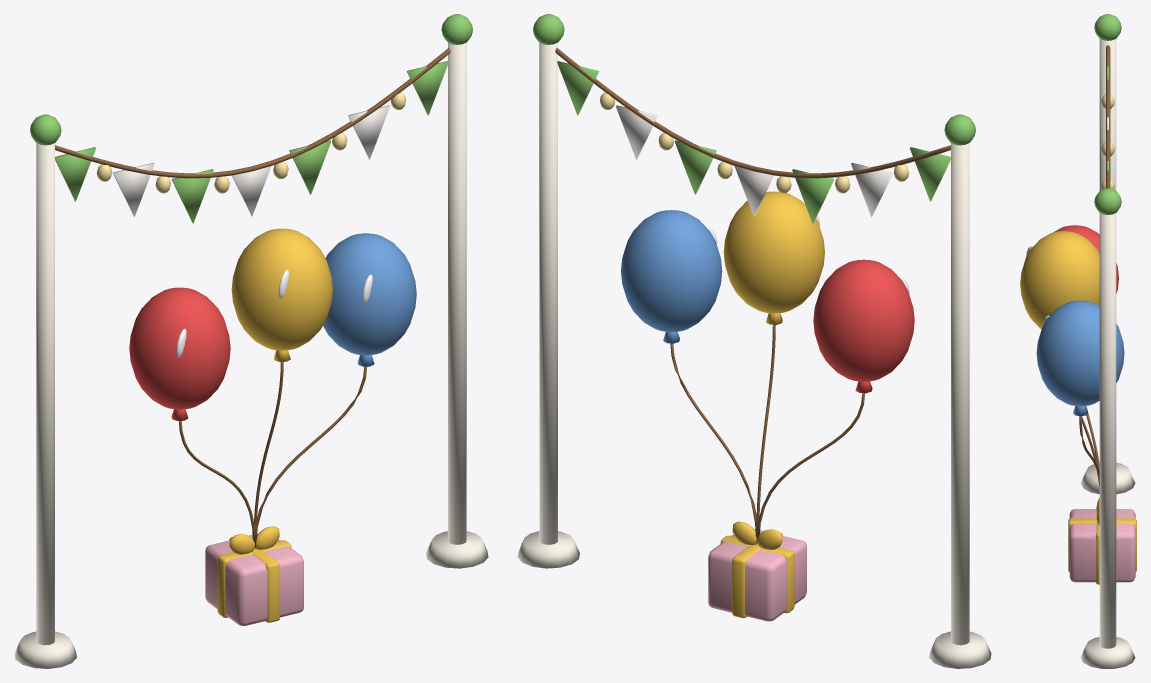
The model's file is party-balloons.glb.
The picture shows the model from 3 angles, left to right: view 1: azimuth 30°, elevation 25°; view 2: azimuth 150°, elevation 25°; view 3: azimuth 270°, elevation 25°; orthographic projection. The views are drawn at different scales.
Parts seen in each view (by area): view 1: stand, balloons; view 2: stand, balloons; view 3: stand, balloons.
Boxes of the visible parts, bbox=[...] form: stand: bbox=[14, 14, 488, 668]; balloons: bbox=[129, 228, 416, 547]; stand: bbox=[517, 14, 991, 668]; balloons: bbox=[621, 191, 914, 543]; stand: bbox=[1068, 14, 1136, 668]; balloons: bbox=[1020, 225, 1124, 488].
Size of the model in its own units: 1.69 by 1.88 by 0.425.
